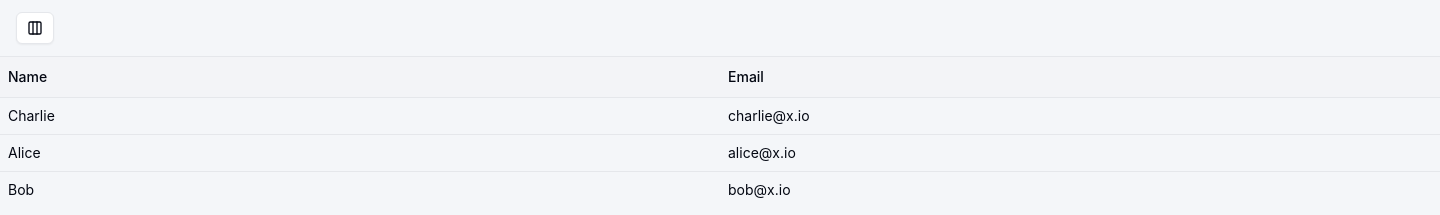
Test: DataTable column visibility › hides a column when toggled off in the view-options menu
Expected: the column heading "Email" is shown, x1=720 y1=57 x2=1439 y2=97
Click the button with test id "view-options-trigger" at (35, 28), box x1=16 y1=12 x2=54 y2=44
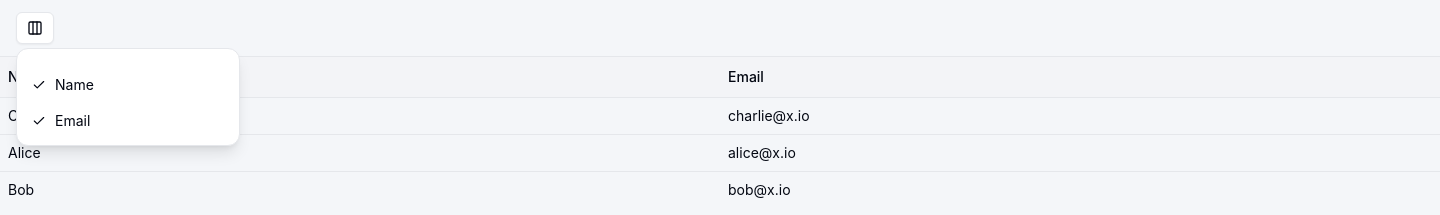
Click the menu item with test id "view-option-email" at (61, 120), box x1=32 y1=112 x2=90 y2=129
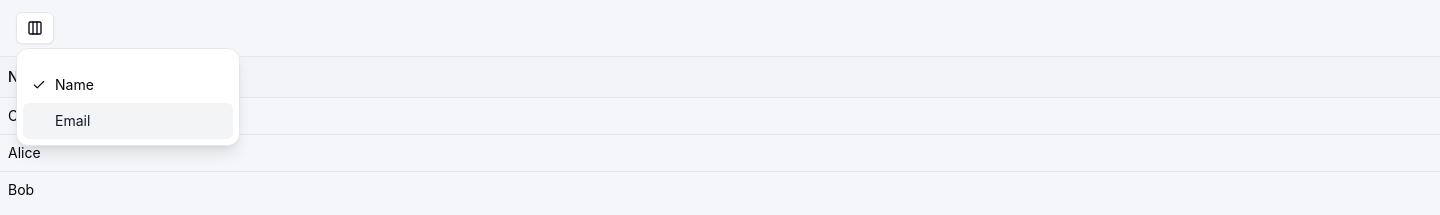
Click the menu item with test id "view-option-email" at (128, 121), box x1=23 y1=103 x2=233 y2=139
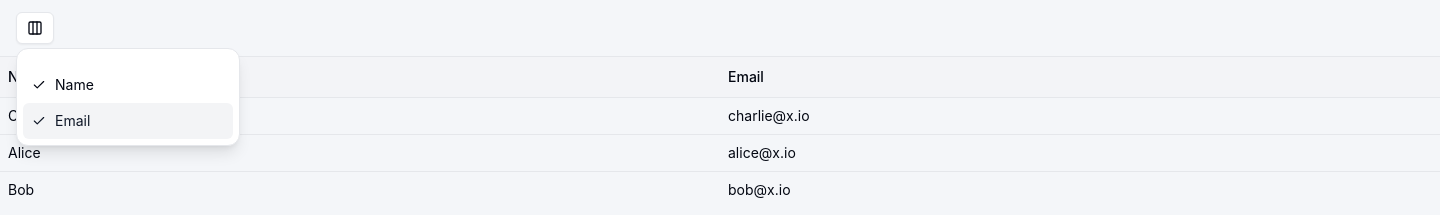
Expected: the column heading "Email" is shown, x1=720 y1=57 x2=1439 y2=97
